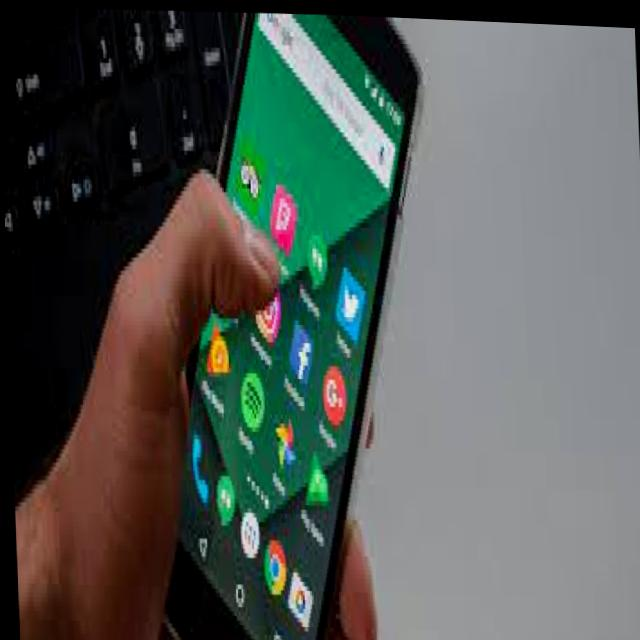Smartphone: (134, 10, 435, 640)
